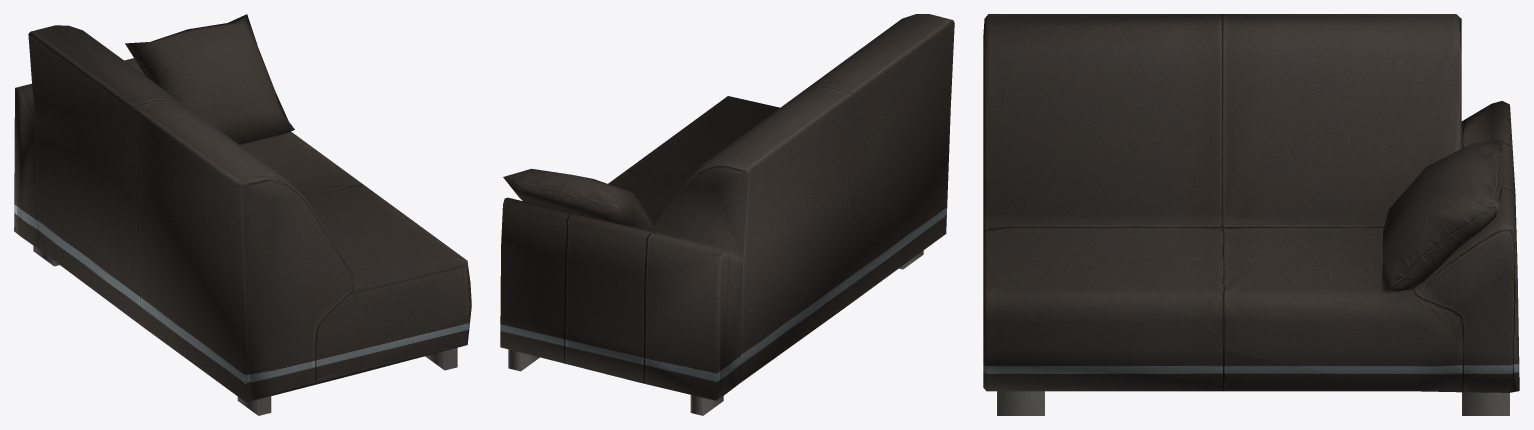
File: Couch06_A.FBX
3 renders of one model, left to right at view 1: azimuth 30°, elevation 25°; view 2: azimuth 150°, elevation 25°; view 3: azimuth 270°, elevation 25°, orthographic. The views are drawn at different scales.
Visible parts, largest first — view 1: Couch06_A; view 2: Couch06_A; view 3: Couch06_A.
Boxes of the visible parts, x1,y1,x2,y2 form: Couch06_A: (14,14,471,415); Couch06_A: (500,14,954,415); Couch06_A: (983,14,1519,415).
Bounding box in the file's own units: 1.01 × 1 × 1.76.
